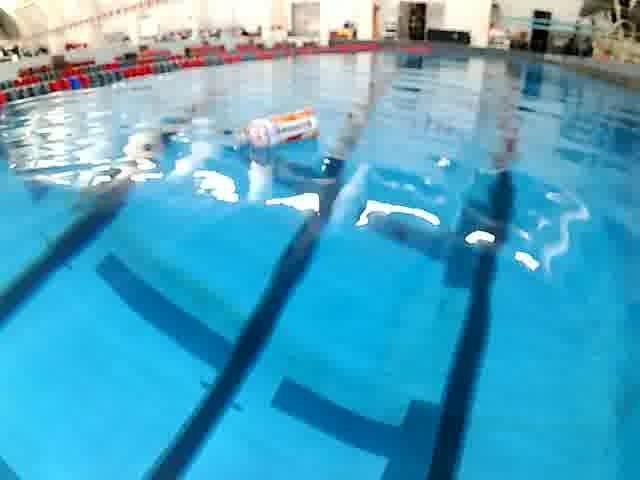Bottle: (224, 102, 324, 152)
